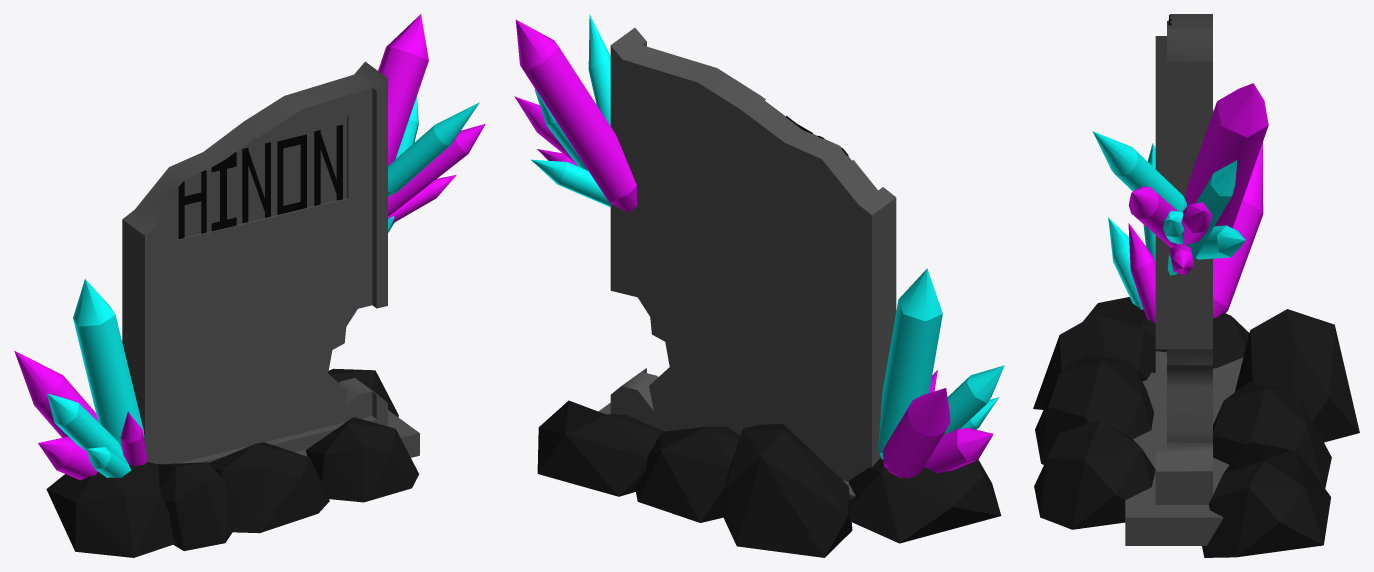
The model's file is Tombstone_Hinon.fbx.
The picture shows the model from 3 angles, left to right: view 1: azimuth 30°, elevation 25°; view 2: azimuth 150°, elevation 25°; view 3: azimuth 270°, elevation 25°; orthographic projection. The views are drawn at different scales.
Visible parts, largest first — view 1: Tombstone_Hinon; view 2: Tombstone_Hinon; view 3: Tombstone_Hinon.
Part boxes in pixels (x1=…): Tombstone_Hinon: x1=14, y1=14, x2=485, y2=557; Tombstone_Hinon: x1=514, y1=14, x2=1004, y2=557; Tombstone_Hinon: x1=1033, y1=14, x2=1359, y2=557.
Size of the model in its own units: 57.17 by 50.49 by 29.48.
